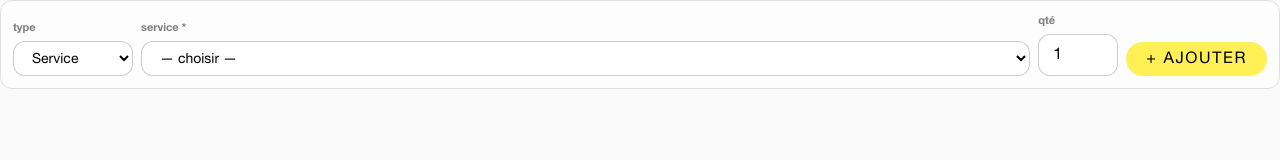
AddItemForm › label change selon le kind sélectionné
Expected: the text "Service *" is shown, [141,22,186,33]
Select "Pièce" in the dropdown below "Type": (73, 58) [13,40,133,76]
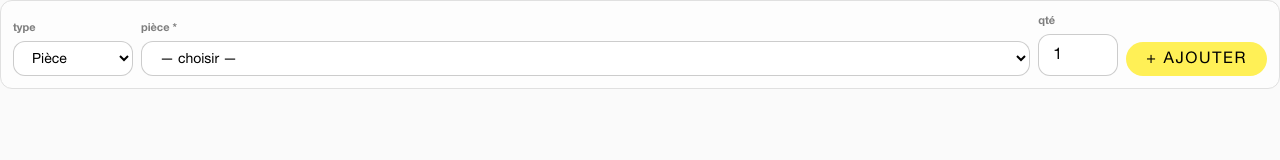
Result: the text "Pièce *" is shown at [141,22,177,33]
